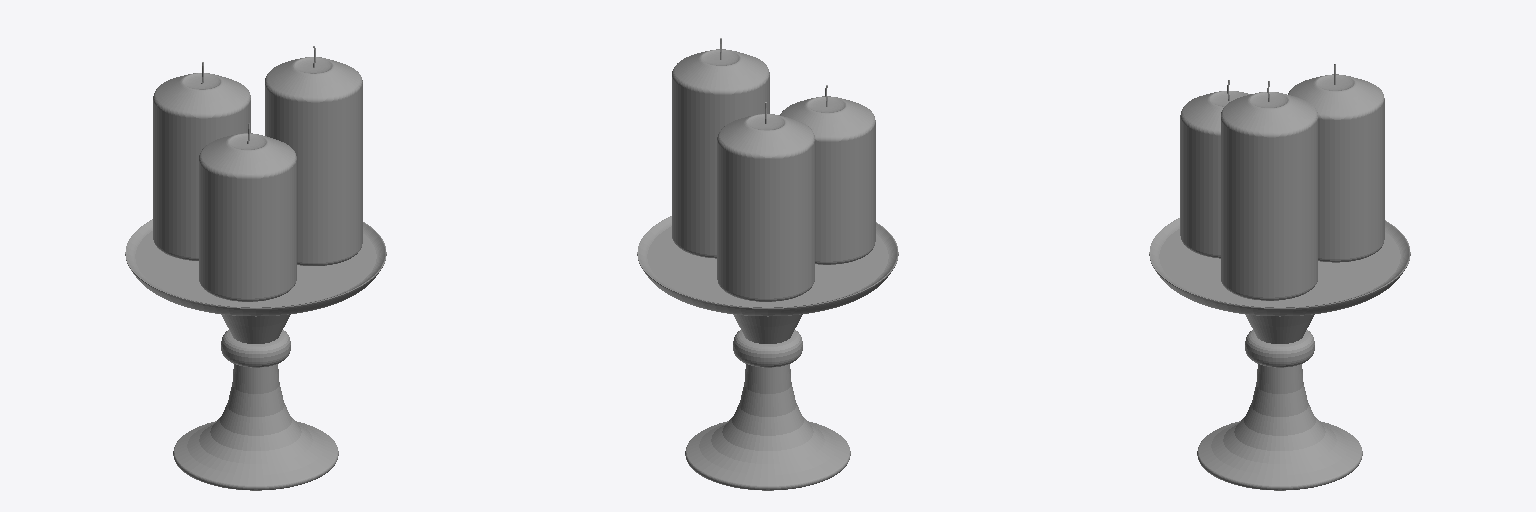
File: flames.obj
The picture shows the model from 3 angles: view 1: azimuth 30°, elevation 25°; view 2: azimuth 150°, elevation 25°; view 3: azimuth 270°, elevation 25°; orthographic projection.
Visible parts, largest first — view 1: Line13141, Line13140, Line13133, Line13138; view 2: Line13141, Line13138, Line13140, Line13133; view 3: Line13141, Line13140, Line13138, Line13133.
Part boxes in pixels (bbox=[...]): Line13141: bbox=[125, 219, 386, 490]; Line13140: bbox=[265, 57, 362, 265]; Line13133: bbox=[199, 133, 296, 301]; Line13138: bbox=[153, 73, 250, 260]; Line13141: bbox=[637, 216, 898, 490]; Line13138: bbox=[717, 114, 814, 301]; Line13140: bbox=[672, 49, 769, 258]; Line13133: bbox=[780, 96, 875, 264]; Line13141: bbox=[1149, 218, 1410, 490]; Line13140: bbox=[1221, 92, 1317, 300]; Line13138: bbox=[1288, 74, 1384, 262]; Line13133: bbox=[1180, 91, 1249, 258].
Bounding box in the file's own units: 4.39 × 7.44 × 4.39.